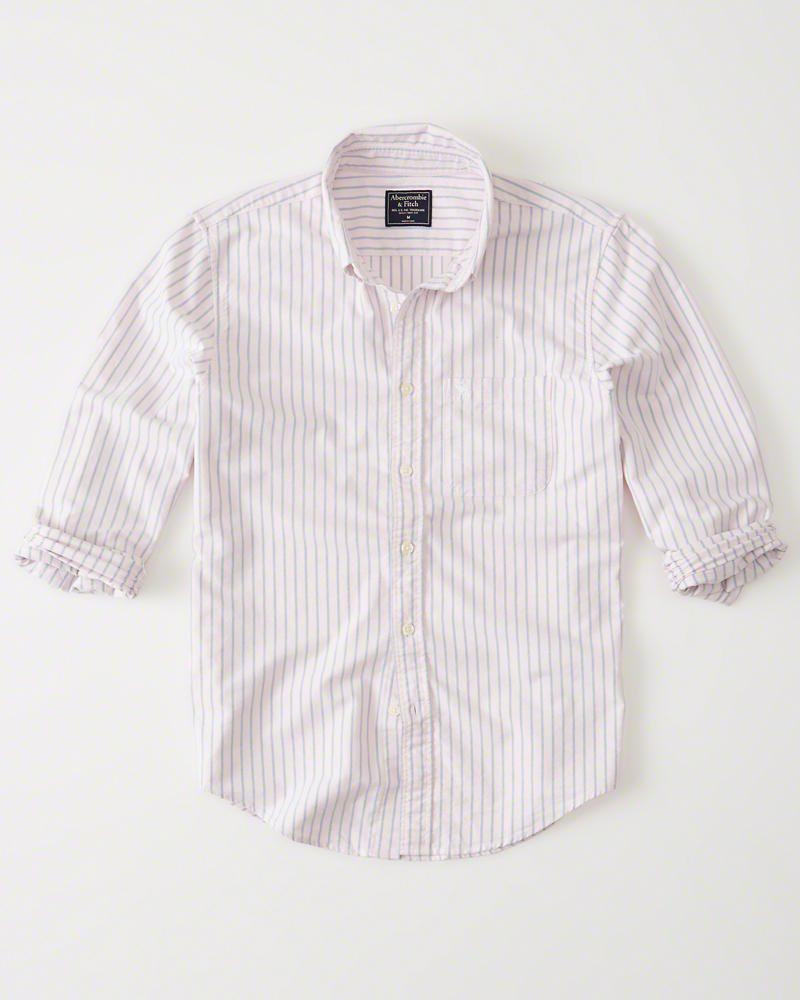teeshirt: (14, 118, 792, 848)
